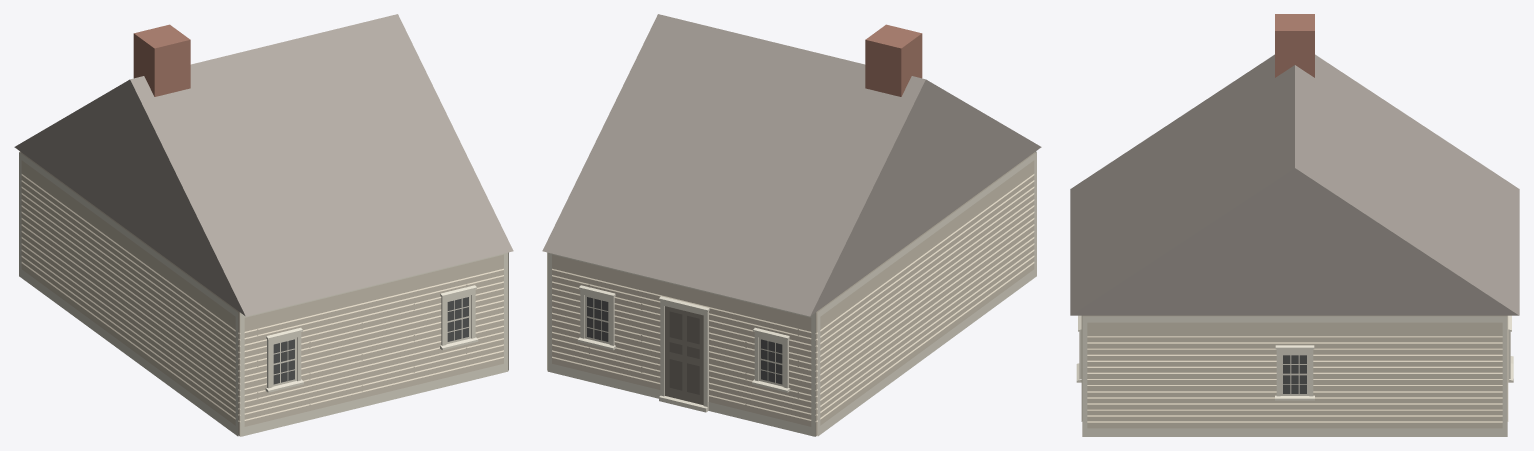
File: recon_1835_south_d5_028__inferred_1835.glb
The picture shows the model from 3 angles, left to right: view 1: azimuth 30°, elevation 25°; view 2: azimuth 150°, elevation 25°; view 3: azimuth 270°, elevation 25°; orthographic projection. The views are drawn at different scales.
Visible parts, largest first — view 1: recon_1835_south_d5_028__inferred_1835; view 2: recon_1835_south_d5_028__inferred_1835; view 3: recon_1835_south_d5_028__inferred_1835.
Part boxes in pixels (x1,y1,x2,y2): recon_1835_south_d5_028__inferred_1835: (14, 14, 513, 436); recon_1835_south_d5_028__inferred_1835: (542, 14, 1041, 436); recon_1835_south_d5_028__inferred_1835: (1070, 14, 1519, 436).
Size of the model in its own units: 6.41 by 6.95 by 9.36.
